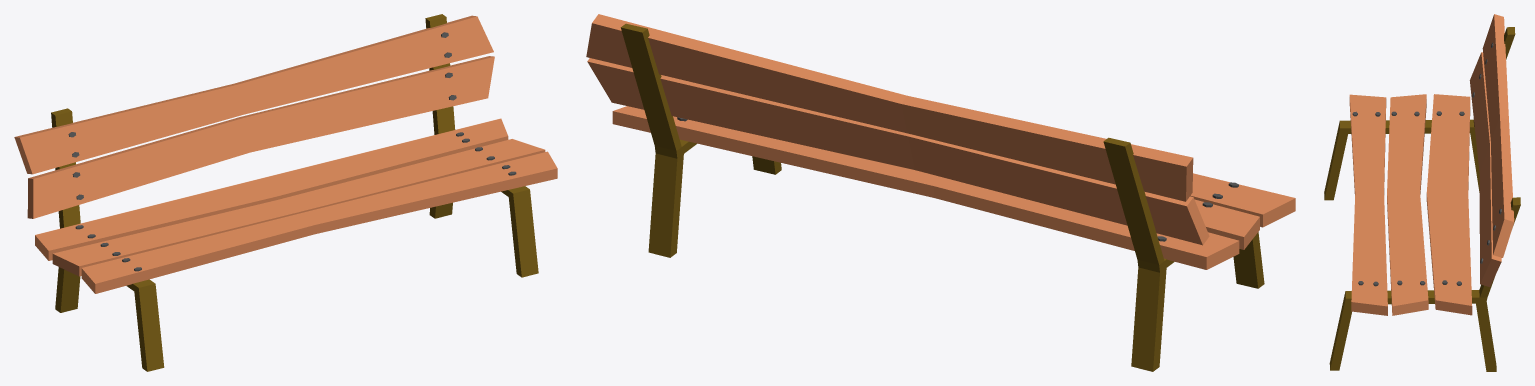
The model's file is bank01.fbx.
3 views of the same model, side by side, from view 1: azimuth 30°, elevation 25°; view 2: azimuth 150°, elevation 25°; view 3: azimuth 270°, elevation 25° (orthographic). The views are drawn at different scales.
Visible parts, largest first — view 1: Cube.002; view 2: Cube.002; view 3: Cube.002.
Boxes of the visible parts, left/top/right/bottom form: Cube.002: left=14, top=14, right=557, bottom=371; Cube.002: left=586, top=14, right=1295, bottom=371; Cube.002: left=1324, top=14, right=1520, bottom=371.
Bounding box in the file's own units: 2.77 × 1.02 × 1.07.
